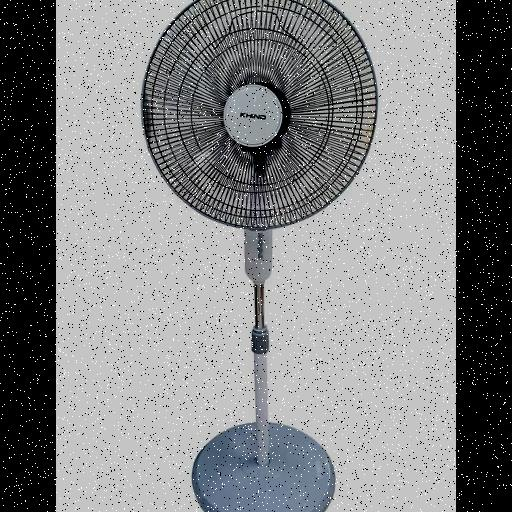Fan: (140, 0, 380, 232)
